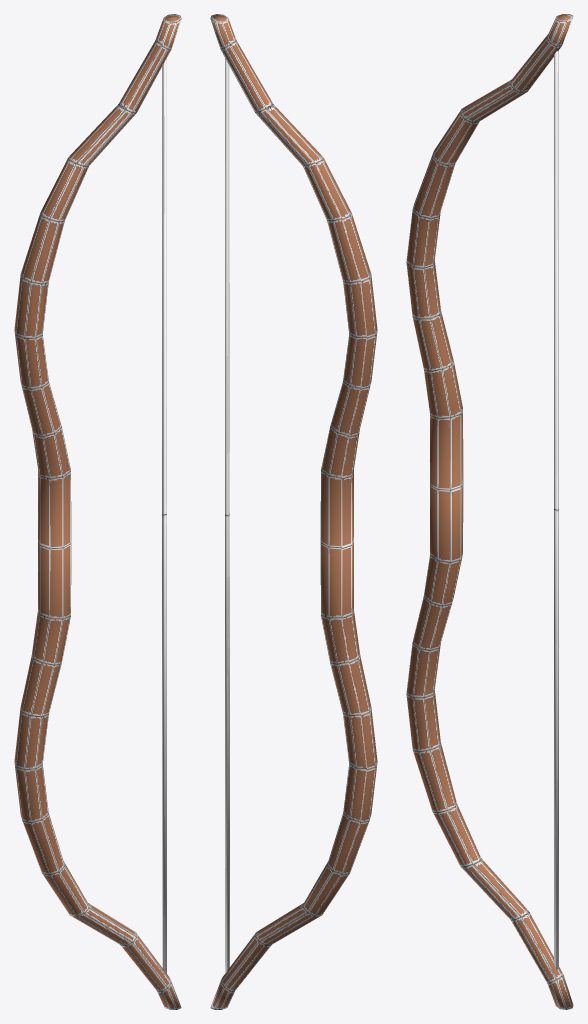
File: bowModel.dae
The picture shows the model from 3 angles, left to right: view 1: azimuth 30°, elevation 25°; view 2: azimuth 150°, elevation 25°; view 3: azimuth 330°, elevation 25°; orthographic projection.
Parts seen in each view (by area): view 1: Bow; view 2: Bow; view 3: Bow.
Part boxes in pixels (<box>): Bow: <box>14,14,181,1009</box>; Bow: <box>210,14,377,1009</box>; Bow: <box>406,14,573,1009</box>.
Bounding box in the file's own units: 0.5212 × 0.0941 × 2.99.
